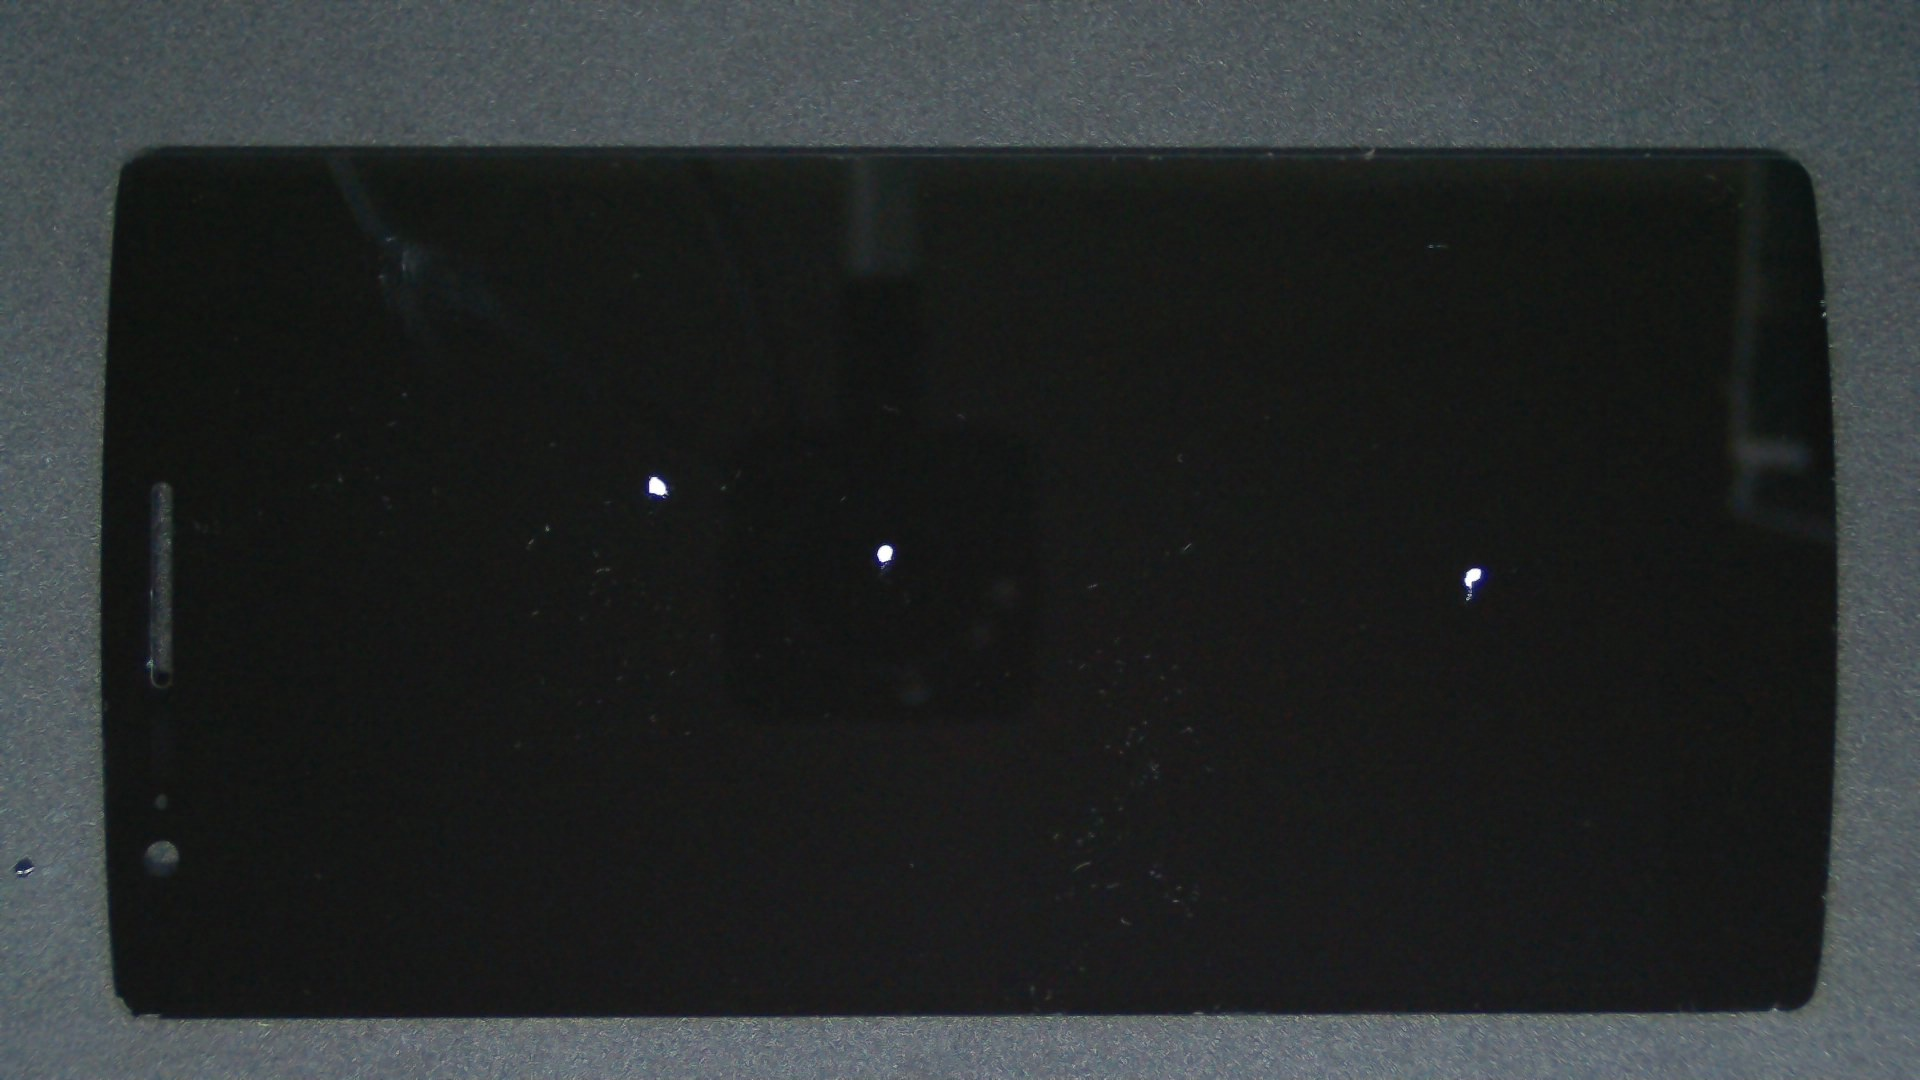oil: (737, 282, 1920, 848), (439, 272, 1319, 816), (324, 237, 975, 713)
